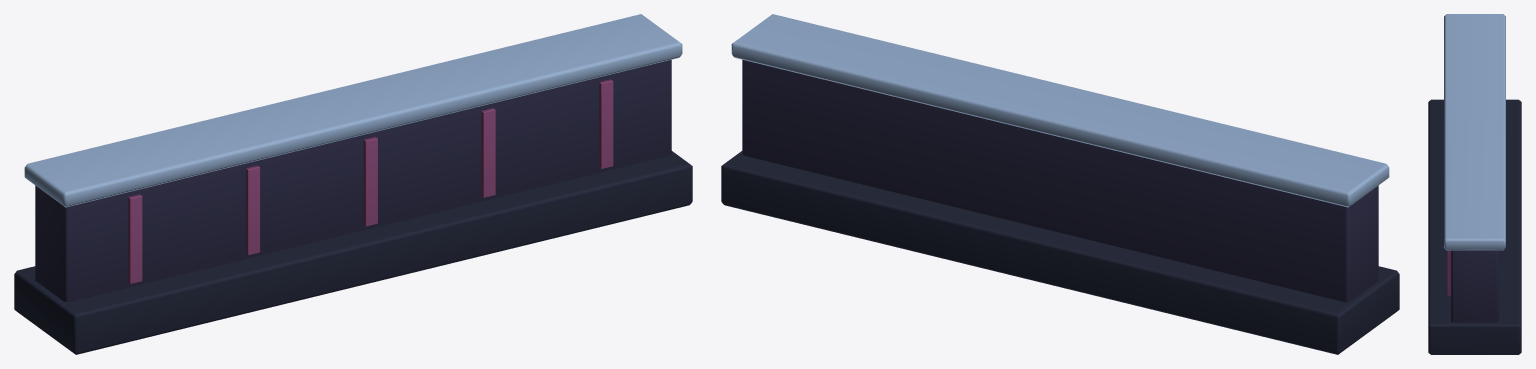
File: speedway_night_pit_wall.glb
3 views of the same model, side by side, from view 1: azimuth 30°, elevation 25°; view 2: azimuth 150°, elevation 25°; view 3: azimuth 270°, elevation 25° (orthographic). The views are drawn at different scales.
Visible parts, largest first — view 1: Pit wall base; view 2: Pit wall base; view 3: Pit wall base.
Boxes of the visible parts, x1,y1,x2,y2 form: Pit wall base: (14, 14, 692, 354); Pit wall base: (721, 14, 1399, 354); Pit wall base: (1428, 14, 1521, 354).
Bounding box in the file's own units: 5 × 1.2 × 0.87.
